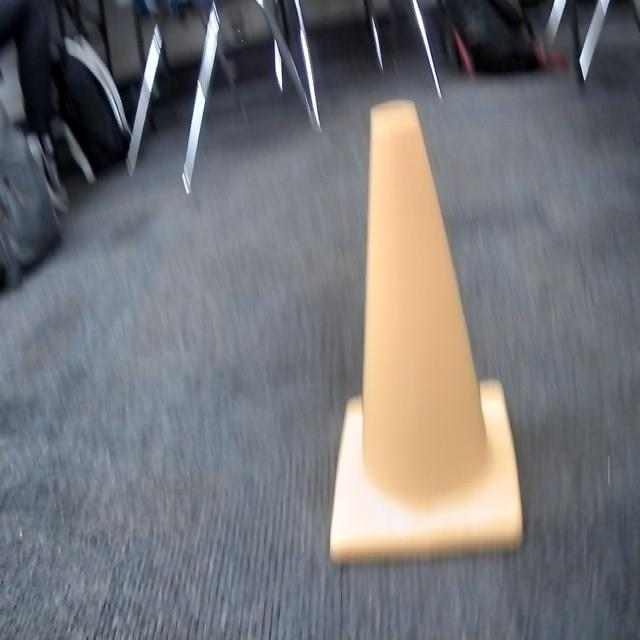cone: (327, 94, 528, 572)
